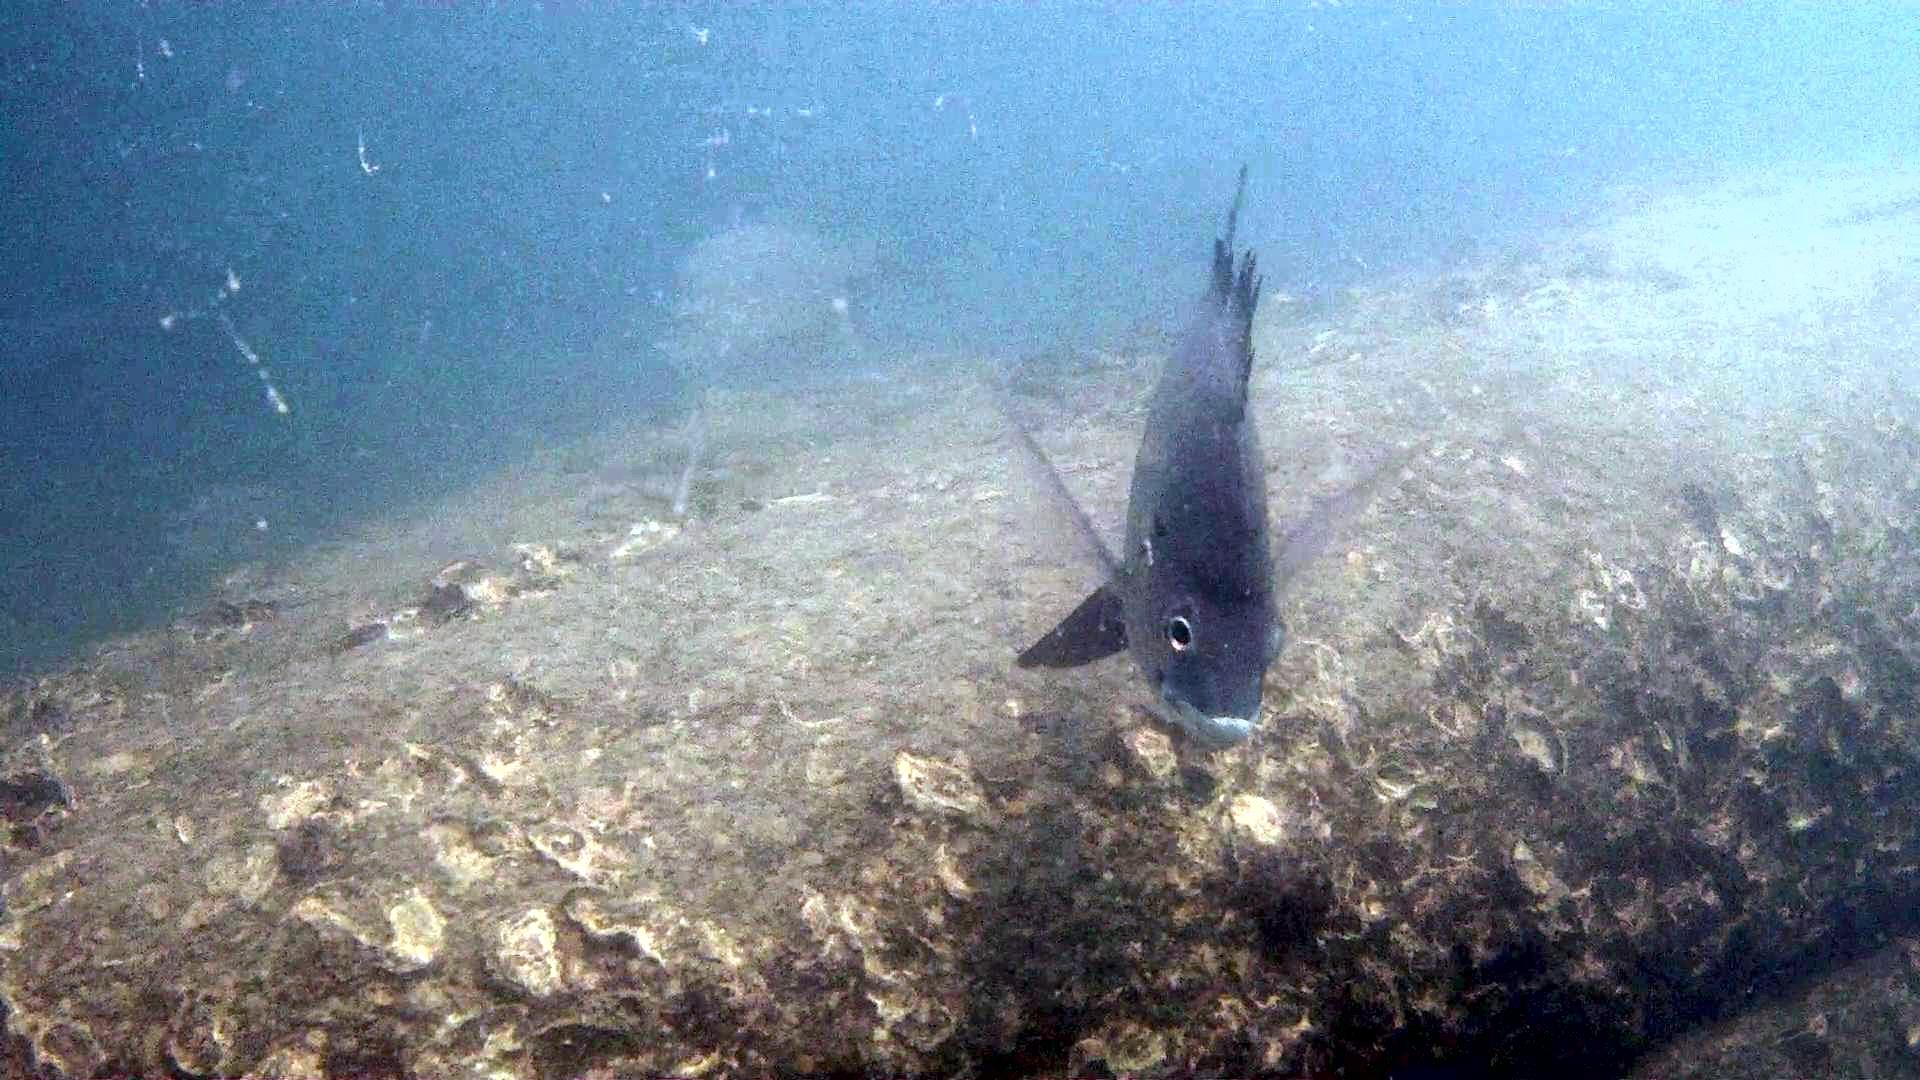acanthopagrus palmaris: (978, 148, 1416, 754)
